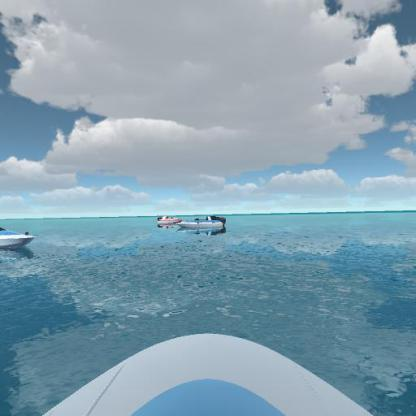usv1: (177, 209, 231, 239), (0, 218, 36, 254)
usv3: (154, 214, 182, 230)
